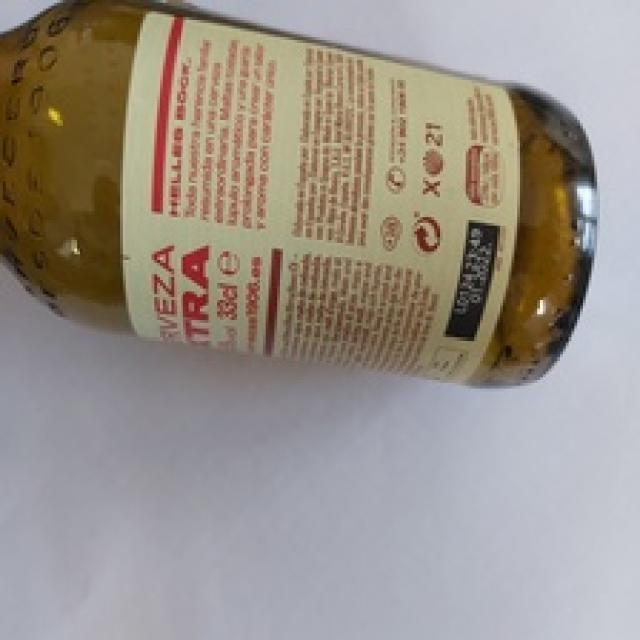Glass: (0, 0, 601, 393)
